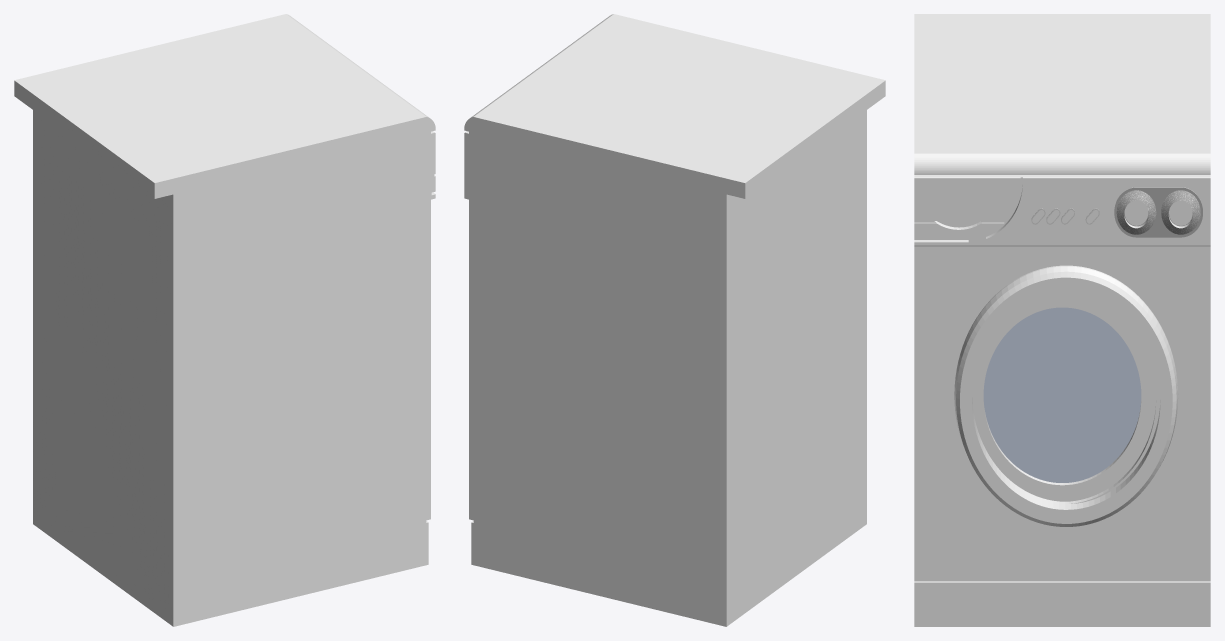
Rendered from appearance.glb.
3 views of the same model, side by side, from view 1: azimuth 30°, elevation 25°; view 2: azimuth 150°, elevation 25°; view 3: azimuth 270°, elevation 25° (orthographic). The views are drawn at different scales.
Parts seen in each view (by area): view 1: visual_0_137, visual_0_111, visual_0_3, visual_0_112, visual_0_48, visual_0_49; view 2: visual_0_153, visual_0_111, visual_0_3, visual_0_137, visual_0_112, visual_0_48, visual_0_49; view 3: visual_0_137, visual_0_111, visual_3_0, visual_0_153, visual_3_2, visual_0_112, visual_0_48, visual_0_46, visual_0_49, visual_3_1, visual_0_130, visual_0_51 (+3 smaller).
Part boxes in pixels (<box>): visual_0_137: <box>33,110,430,626</box>; visual_0_111: <box>21,17,418,180</box>; visual_0_3: <box>57,165,148,553</box>; visual_0_112: <box>22,17,418,179</box>; visual_0_48: <box>14,14,435,198</box>; visual_0_49: <box>14,15,434,197</box>; visual_0_153: <box>464,131,726,626</box>; visual_0_111: <box>481,17,878,180</box>; visual_0_3: <box>751,165,842,553</box>; visual_0_137: <box>471,110,866,626</box>; visual_0_112: <box>482,17,877,179</box>; visual_0_48: <box>464,14,885,198</box>; visual_0_49: <box>465,15,883,196</box>; visual_0_137: <box>914,246,1210,626</box>; visual_0_111: <box>919,16,1205,151</box>; visual_3_0: <box>983,307,1141,482</box>; visual_0_153: <box>914,175,1210,246</box>; visual_3_2: <box>954,265,1178,526</box>; visual_0_112: <box>919,16,1205,151</box>; visual_0_48: <box>914,14,1210,174</box>; visual_0_46: <box>972,293,1156,503</box>; visual_0_49: <box>914,14,1210,174</box>; visual_3_1: <box>972,397,1160,509</box>; visual_0_130: <box>1114,187,1202,237</box>; visual_0_51: <box>1116,190,1156,234</box>.
Bounding box in the file's own units: 1.03 × 1.54 × 0.8727.
